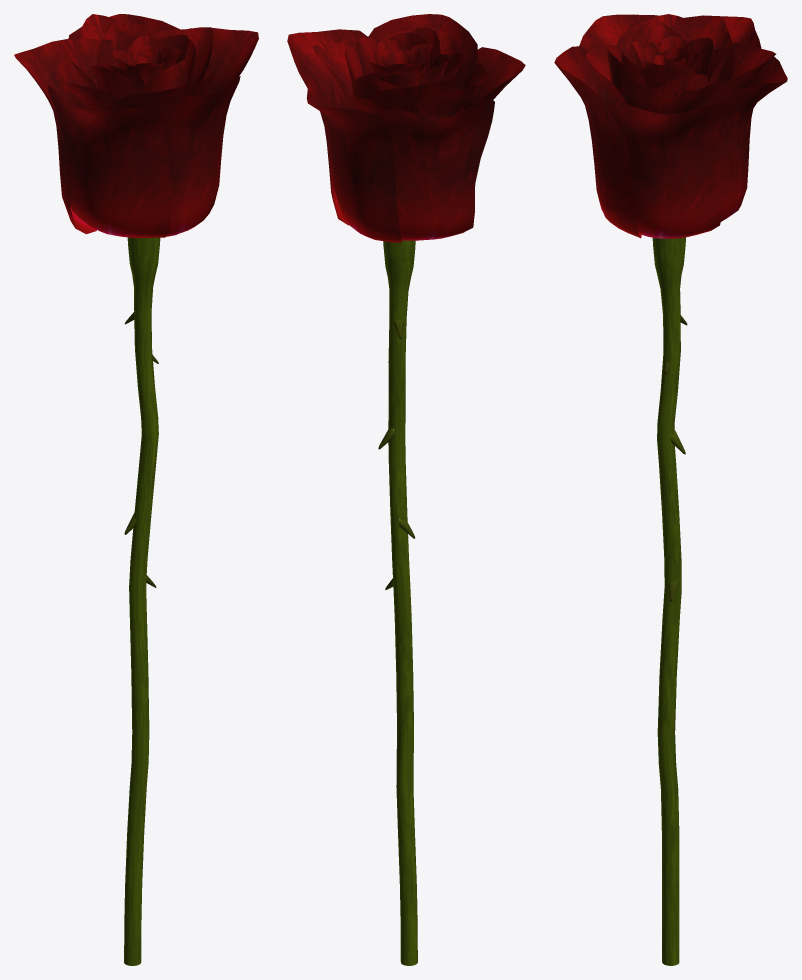
Rendered from SM_RoseDiego 1.fbx.
3 views of the same model, side by side, from view 1: azimuth 30°, elevation 25°; view 2: azimuth 150°, elevation 25°; view 3: azimuth 270°, elevation 25° (orthographic).
Parts seen in each view (by area): view 1: polySurface11, polySurface35, polySurface36, polySurface34, polySurface32, polySurface38, polySurface37, polySurface12, polySurface39, polySurface40, polySurface15, polySurface16 (+2 smaller); view 2: polySurface11, polySurface34, polySurface33, polySurface32, polySurface36, polySurface35, polySurface38, polySurface37, polySurface12, polySurface39, polySurface18, polySurface40 (+1 smaller); view 3: polySurface11, polySurface32, polySurface36, polySurface33, polySurface37, polySurface39, polySurface12, polySurface35, polySurface34, polySurface40, polySurface16, polySurface27 (+4 smaller).
Part boxes in pixels (x1,y1,x2,y2): polySurface11: (124,237,160,965); polySurface35: (47,85,170,237); polySurface36: (147,76,240,236); polySurface34: (14,38,96,234); polySurface32: (190,28,258,94); polySurface38: (55,57,126,110); polySurface37: (146,27,213,84); polySurface12: (61,38,101,89); polySurface39: (74,14,157,108); polySurface40: (119,73,214,108); polySurface15: (90,65,137,98); polySurface16: (142,66,188,93); polySurface11: (383,240,417,965); polySurface34: (373,98,494,240); polySurface33: (306,73,401,242); polySurface32: (287,29,369,225); polySurface36: (368,14,477,109); polySurface35: (467,47,525,185); polySurface38: (413,63,488,117); polySurface37: (313,40,356,97); polySurface12: (366,75,463,104); polySurface39: (330,78,419,113); polySurface18: (355,73,400,98); polySurface40: (383,29,462,77); polySurface11: (652,237,685,965); polySurface32: (605,99,729,238); polySurface36: (554,46,641,238); polySurface33: (713,56,787,221); polySurface37: (623,78,728,114); polySurface39: (706,42,775,106); polySurface12: (670,17,735,80); polySurface35: (579,14,658,99); polySurface34: (684,15,761,87); polySurface40: (586,48,628,103); polySurface16: (606,44,633,96); polySurface27: (640,66,696,85).
Size of the model in its own units: 17.72 by 73.68 by 16.89.
1 material, 1 textured.
